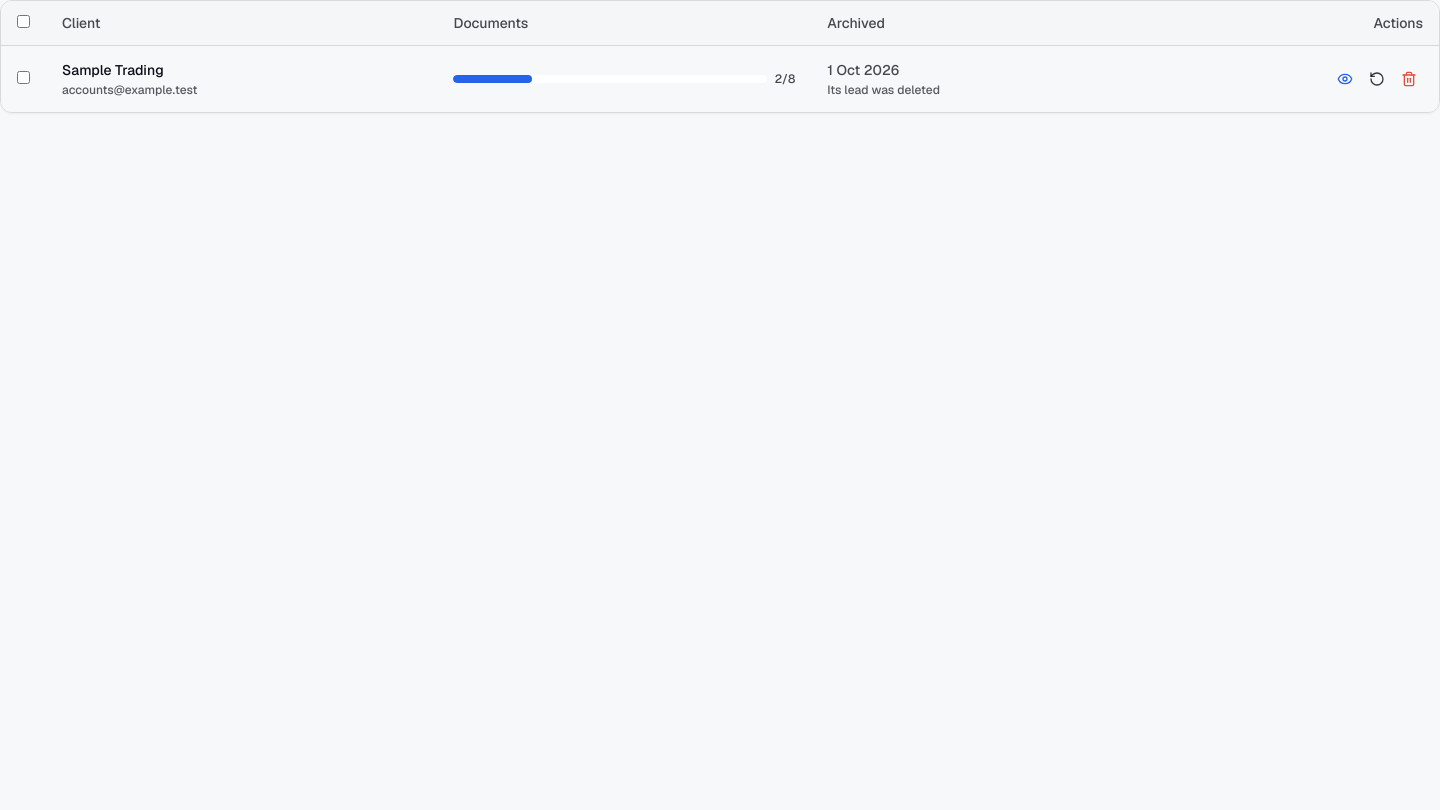
Test: ClientTable — clicking a row › leaves the checkbox and the action buttons to do their own thing
Click the checkbox named "Select Sample Trading" at (24, 78), box [17, 71, 30, 84]
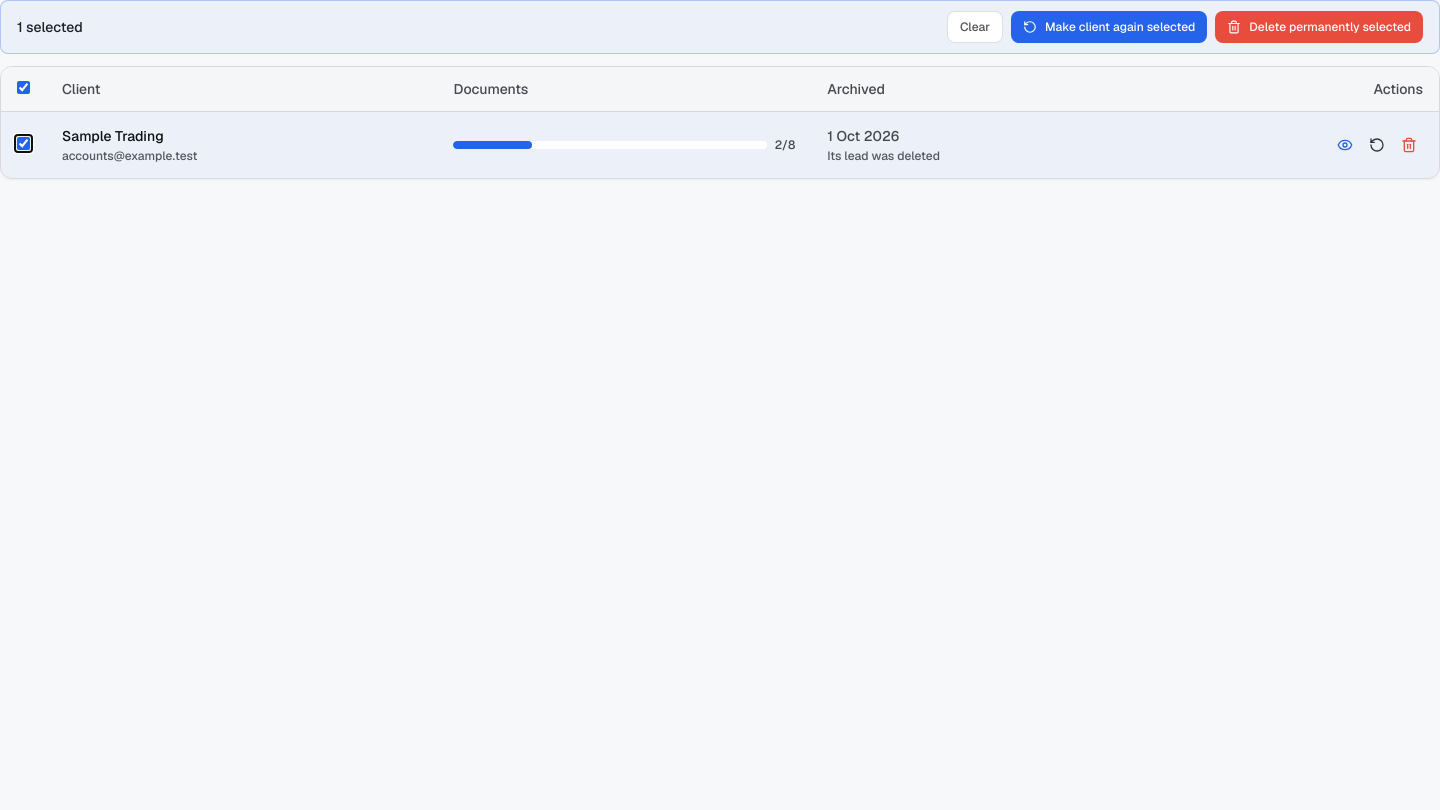
Click the button named "Delete permanently: Sample Trading" at (1409, 145), box [1395, 131, 1423, 159]
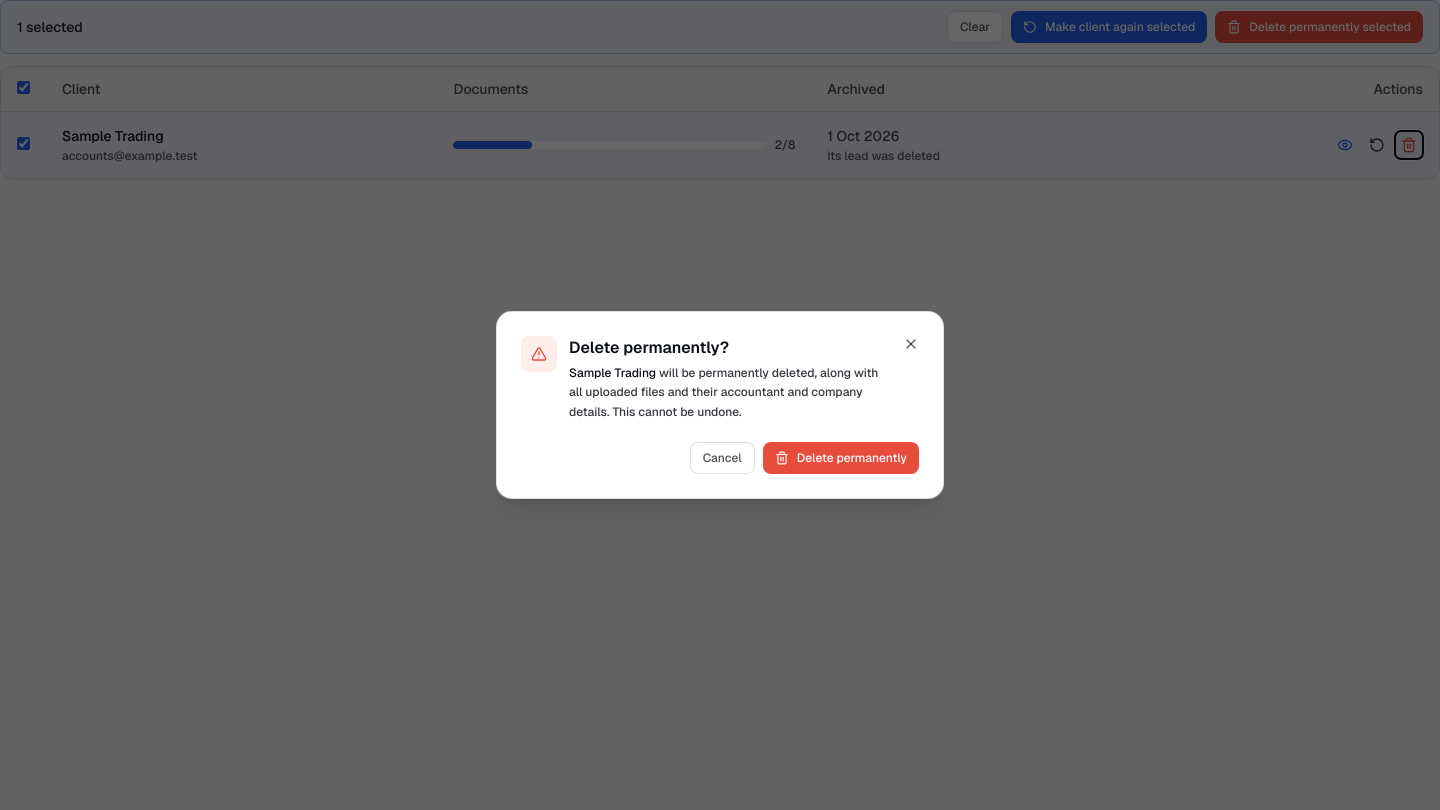
Expected: the dialog "Delete permanently?" is shown, [496, 311, 944, 499]
